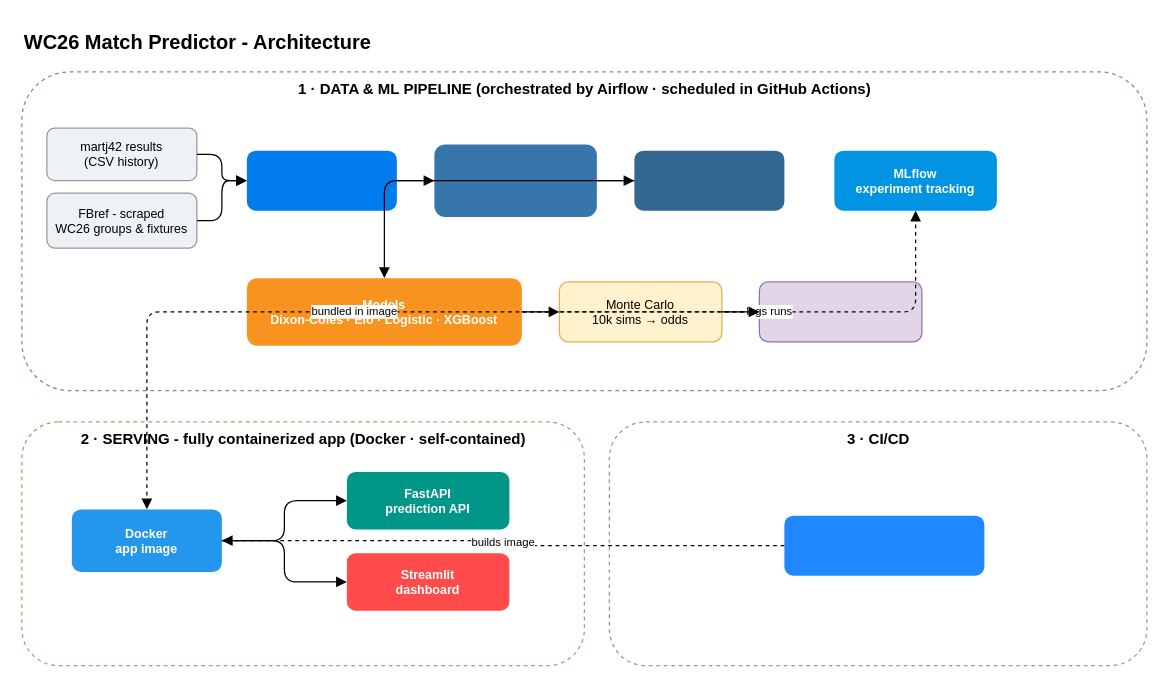
This 1169x688 diagram has some shape labels left out. The centre of each missing label's shape, as x and y in pixels:
Apache Airflow orchestration: (321,180)
GitHub Actions lint · test · build image: (884,545)
PostgreSQL warehouse: (709,180)
Python ETL + features (Elo·form·rest·H2H): (515,180)
Snapshot SQLite + model: (840,311)
